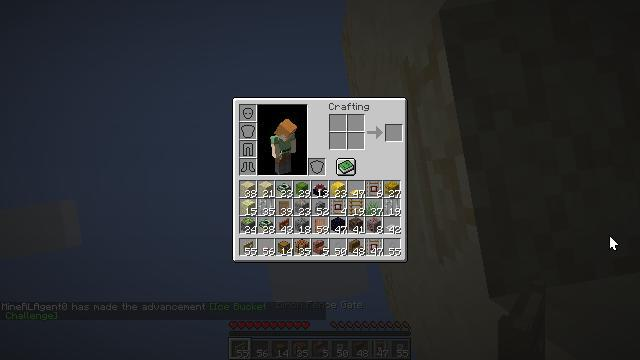cursor: (609, 235, 619, 251)
